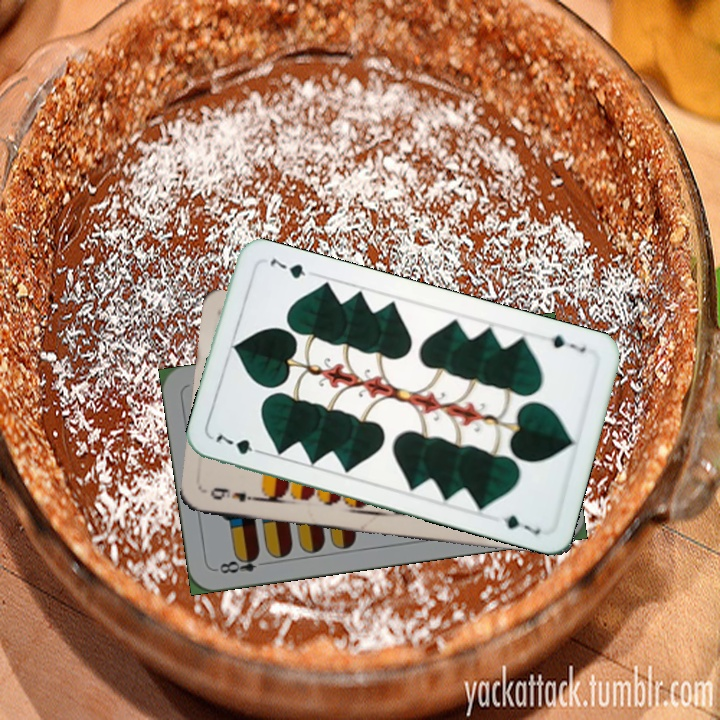E8: (212, 550, 271, 576)
E9: (206, 483, 262, 505)
G7: (211, 430, 268, 458), (547, 330, 589, 355)
